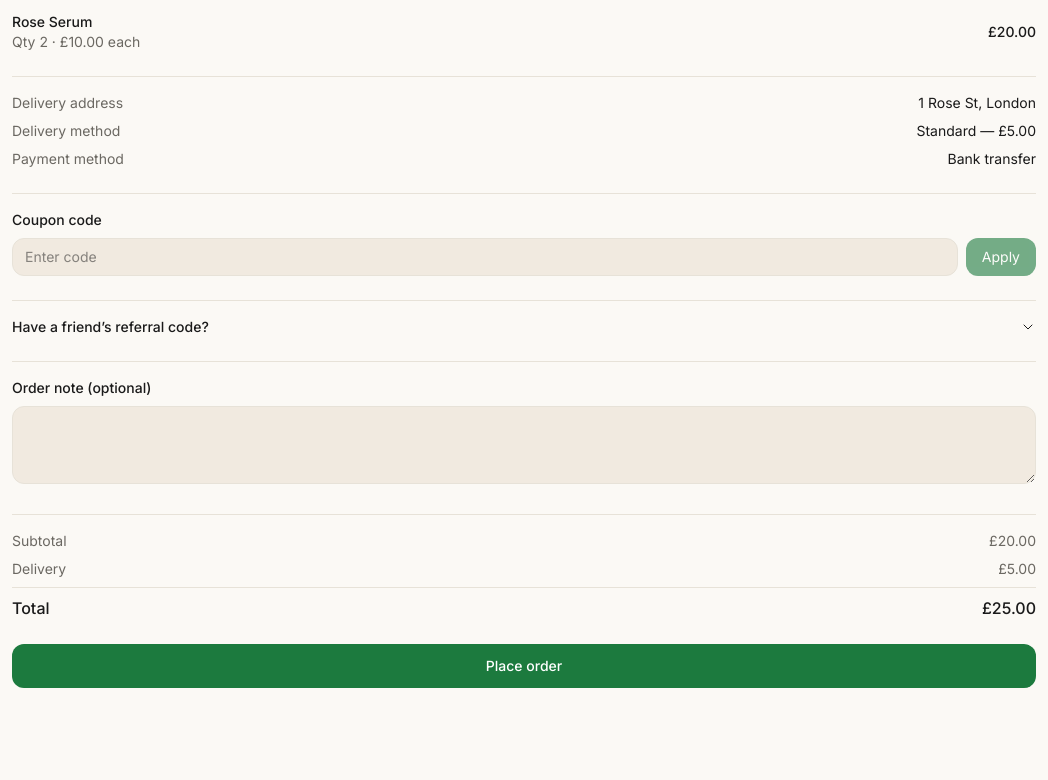
Test case: ReviewStep › maps a CheckoutError (insufficient_stock) to a specific message with a cart link, button re-enabled
Expected: the text "£25.00" is shown, left=982, top=596, right=1036, bottom=620
Click the button "Place order". click: (524, 666)
box: left=12, top=644, right=1036, bottom=688
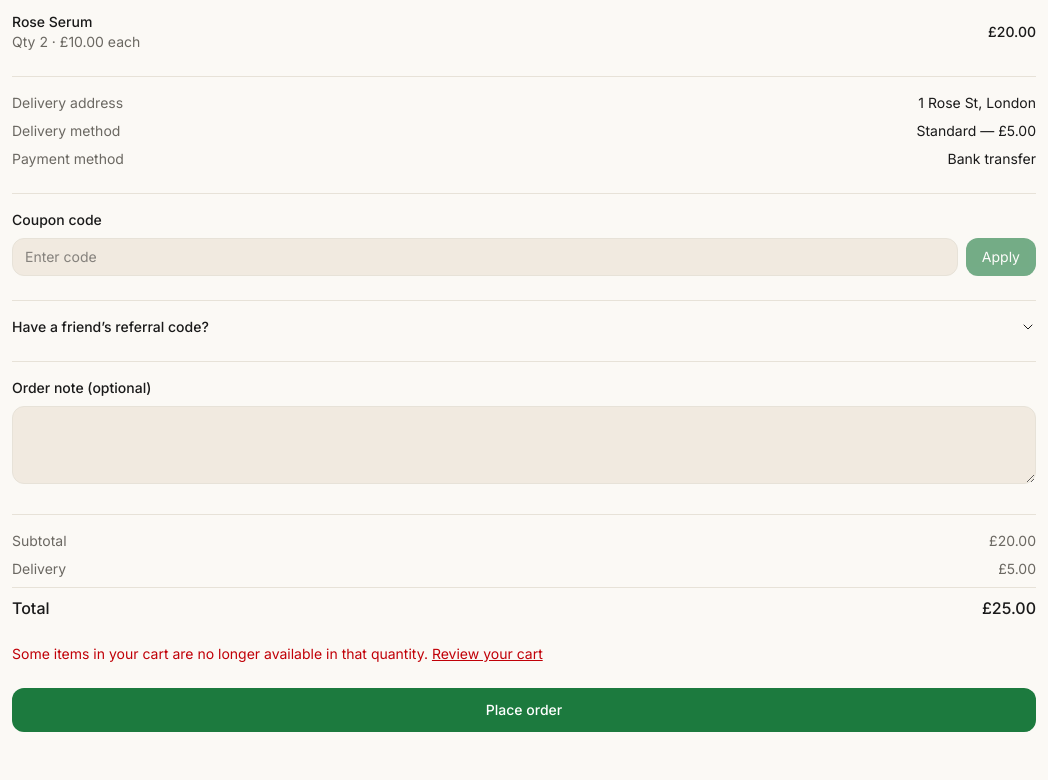
Expected: the button "Place order" is enabled, left=12, top=688, right=1036, bottom=732
Now the message shows "no longer available", box left=12, top=645, right=428, bottom=662
